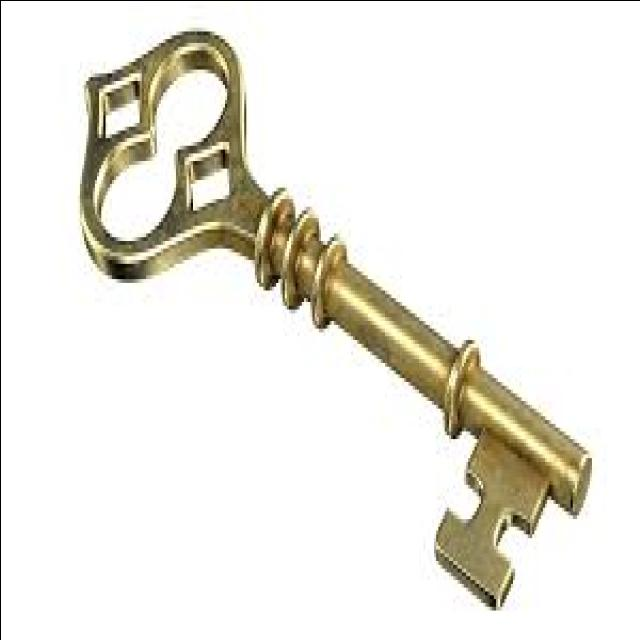key: (36, 25, 614, 609)
